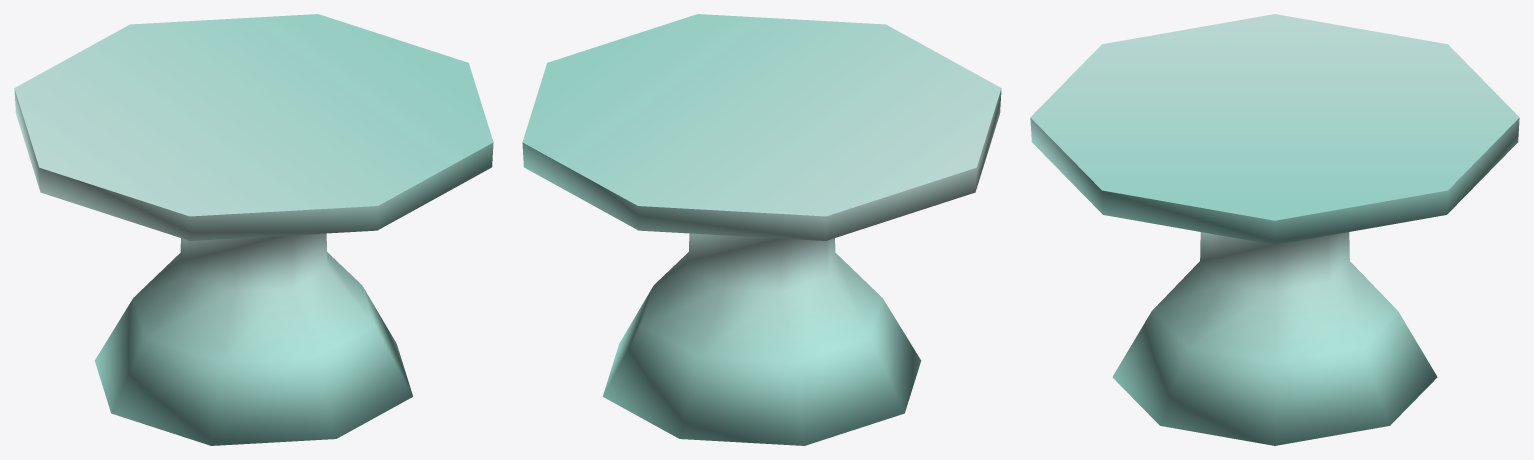
Rendered from Cake_Display_C.FBX.
3 renders of one model, left to right at view 1: azimuth 30°, elevation 25°; view 2: azimuth 150°, elevation 25°; view 3: azimuth 270°, elevation 25°, orthographic.
Visible parts, largest first — view 1: Cake Display; view 2: Cake Display; view 3: Cake Display.
Part boxes in pixels (x1=…): Cake Display: x1=14, y1=14, x2=493, y2=445; Cake Display: x1=522, y1=14, x2=1001, y2=445; Cake Display: x1=1030, y1=14, x2=1519, y2=445.
Size of the model in its own units: 89.08 by 52.2 by 89.08.
